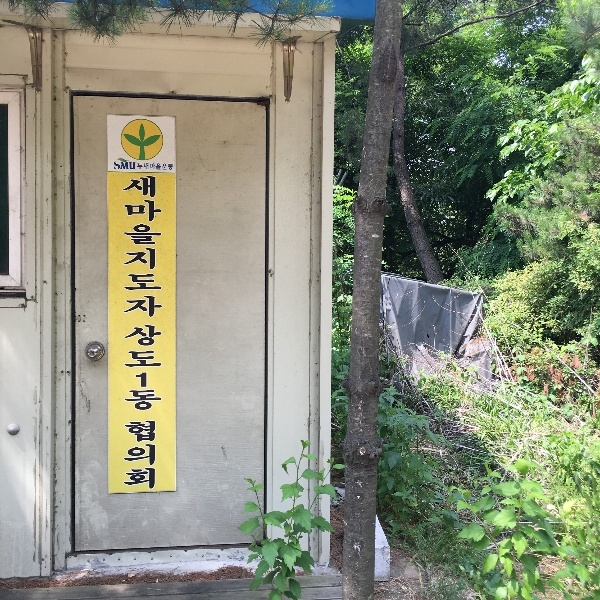text: (129, 177, 144, 491), (145, 177, 160, 491), (123, 177, 128, 491), (161, 177, 162, 491), (113, 162, 128, 170), (145, 164, 160, 171), (161, 164, 174, 171), (129, 162, 136, 170), (137, 164, 144, 171)
